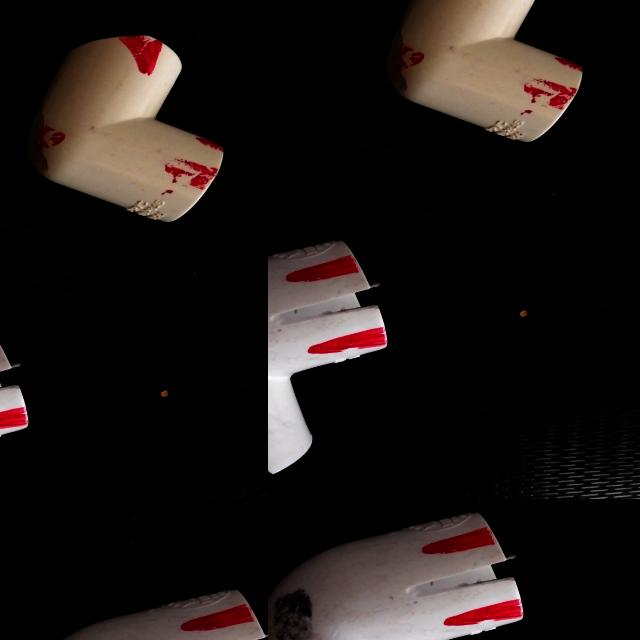Defective: (423, 536, 506, 572), (272, 583, 323, 640), (452, 604, 540, 633)
L Joint: (268, 513, 525, 640)
